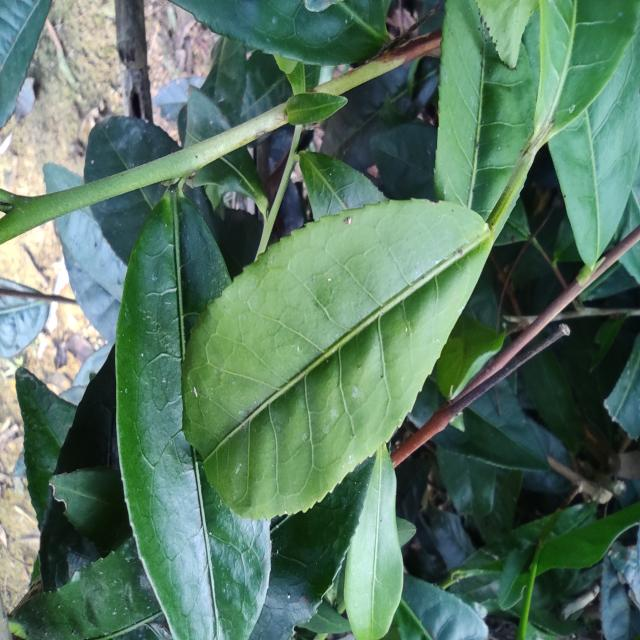Category D(7+ days, Not for Tea): (177, 208, 485, 520)
